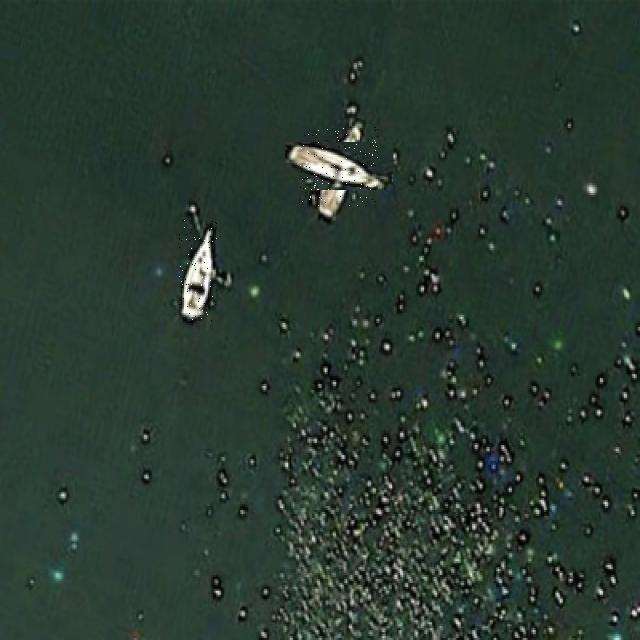boat: (300, 127, 378, 206), (179, 219, 218, 321)
